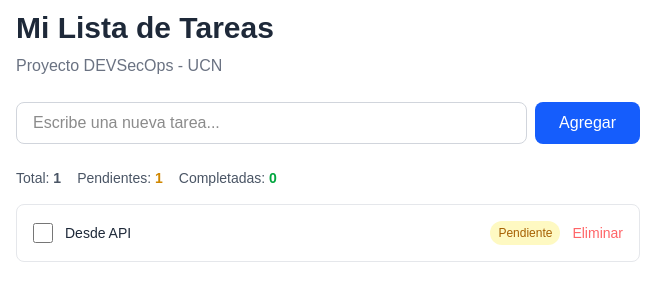
Test: TodoApp › muestra error cuando la API rechaza una nueva tarea
Type "Entrada mala" into the field labelled "nueva tarea". click: (272, 123)
box: [16,102,527,144]
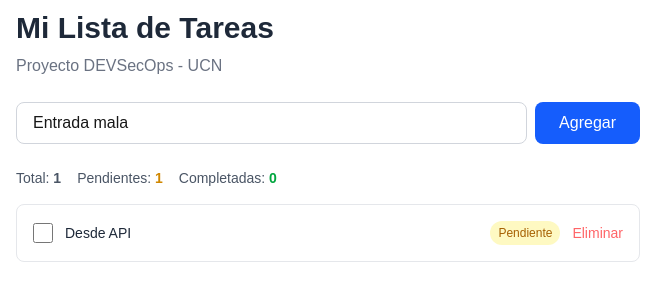
Click the button "Agregar". click: (588, 123)
box: [535,102,640,144]
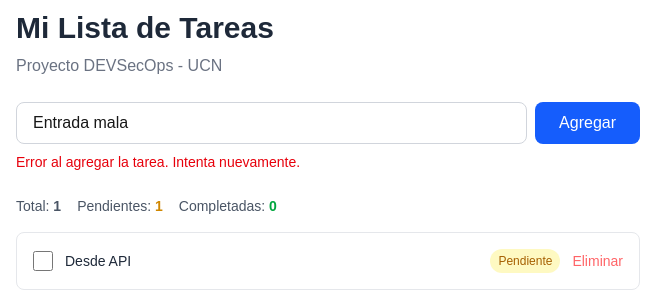
Result: the message shows "Error al agregar" at [16,154,300,170]
